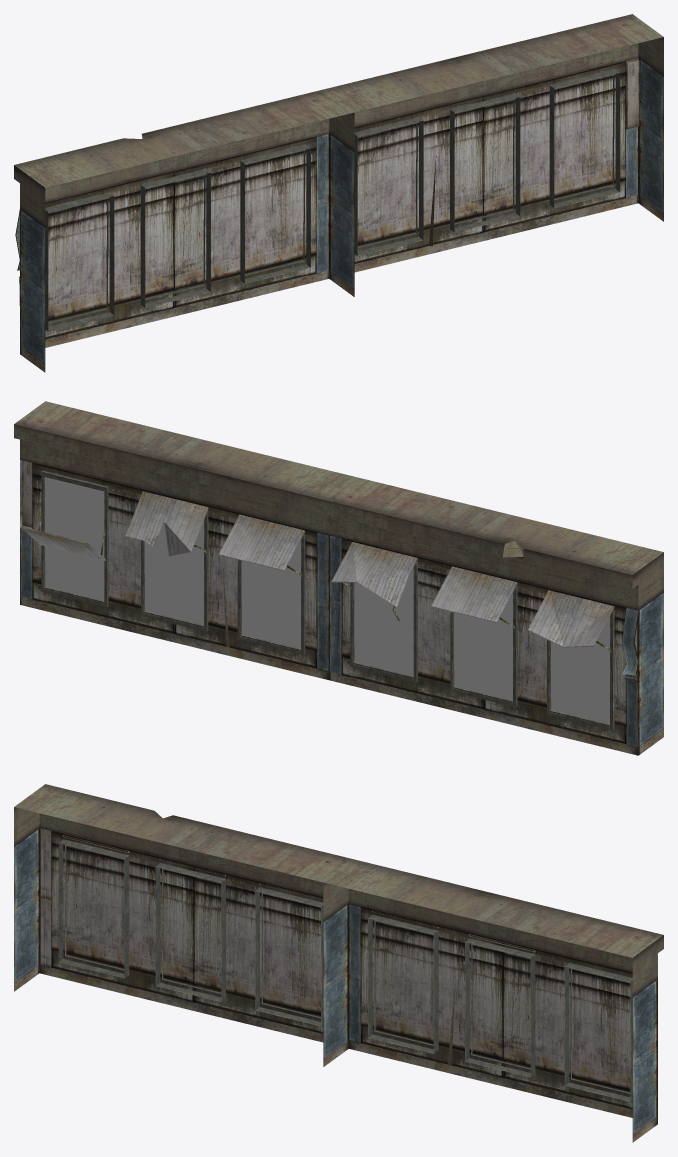
The model's file is Store_front_13_B.fbx.
The picture shows the model from 3 angles, top to bottom: view 1: azimuth 30°, elevation 25°; view 2: azimuth 150°, elevation 25°; view 3: azimuth 330°, elevation 25°; orthographic projection.
Parts seen in each view (by area): view 1: Store_front_13_B; view 2: Store_front_13_B; view 3: Store_front_13_B.
Part boxes in pixels (x1,y1,x2,y2): Store_front_13_B: [14, 14, 663, 372]; Store_front_13_B: [14, 401, 663, 755]; Store_front_13_B: [14, 784, 663, 1142].
Bounding box in the file's own units: 1400 × 400 × 186.
